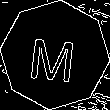M_N: (30, 27, 80, 83)
